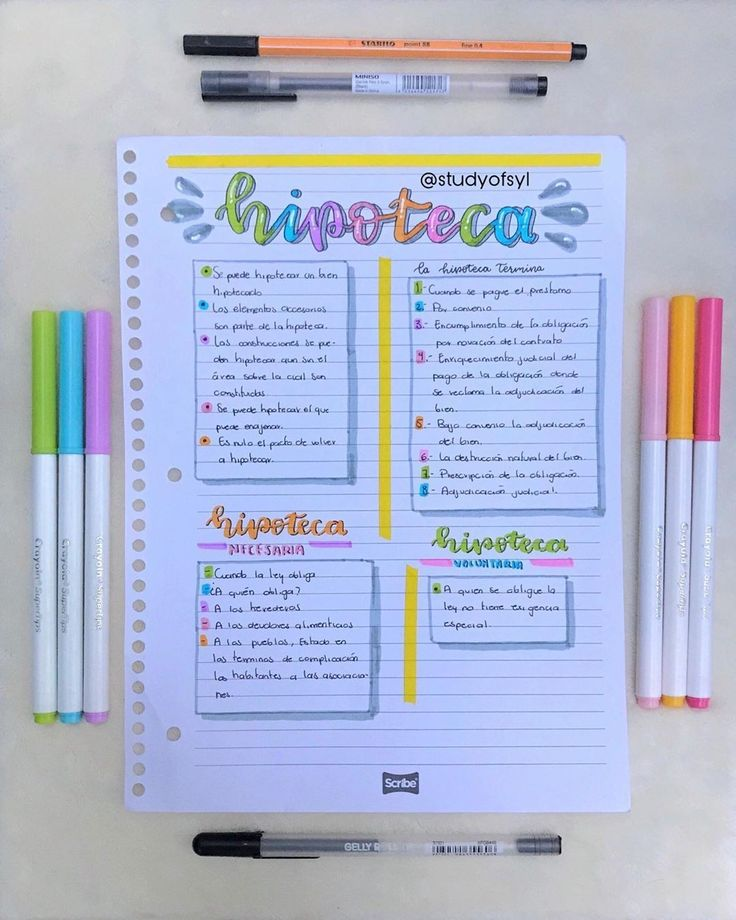page: (121, 142, 623, 813)
